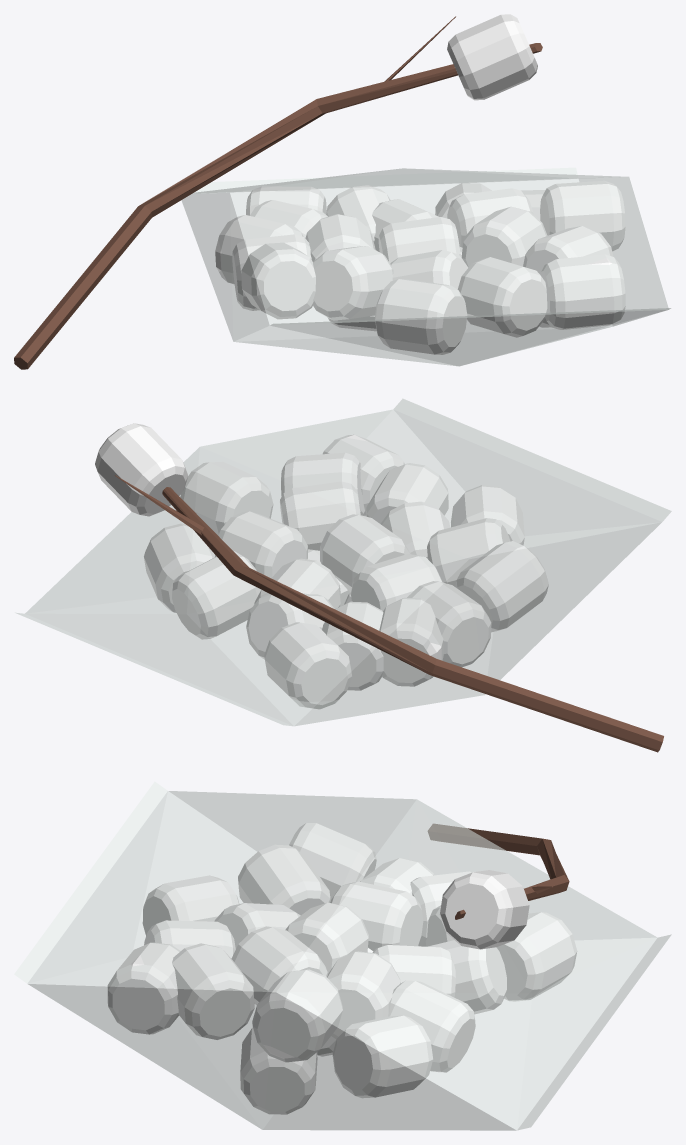
Rendered from Marshmallows.glb.
3 renders of one model, top to bottom at view 1: azimuth 30°, elevation 25°; view 2: azimuth 150°, elevation 25°; view 3: azimuth 270°, elevation 25°, orthographic. The views are drawn at different scales.
Visible parts, largest first — view 1: Node; view 2: Node; view 3: Node.
Boxes of the visible parts, bbox=[...] form: Node: bbox=[14, 14, 670, 369]; Node: bbox=[15, 398, 671, 752]; Node: bbox=[14, 781, 671, 1130].
Bounding box in the file's own units: 1.03 × 0.3827 × 0.9045.
